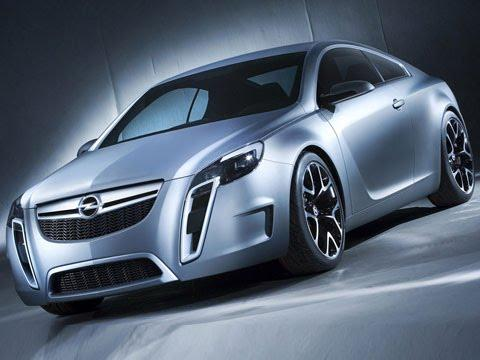small: (4, 37, 475, 316)
